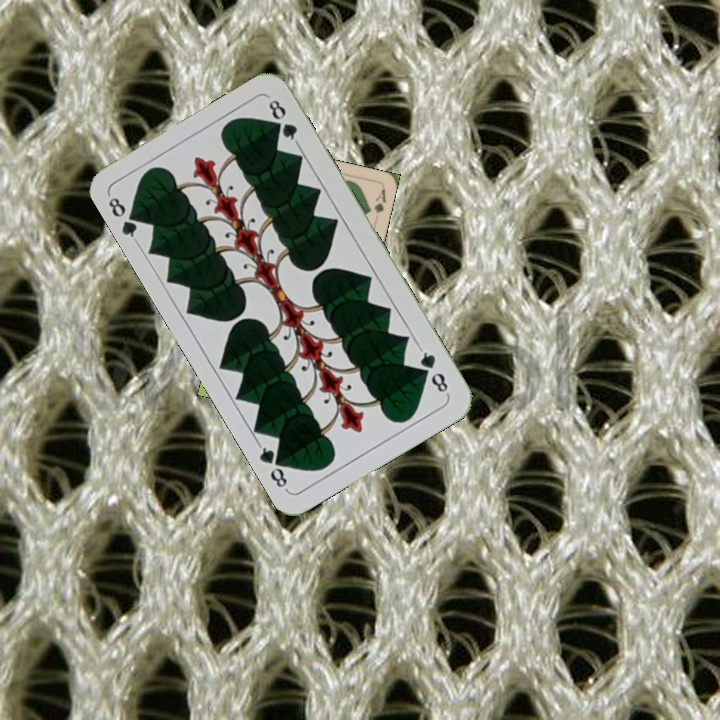G8: (104, 192, 145, 245), (415, 344, 451, 397)
